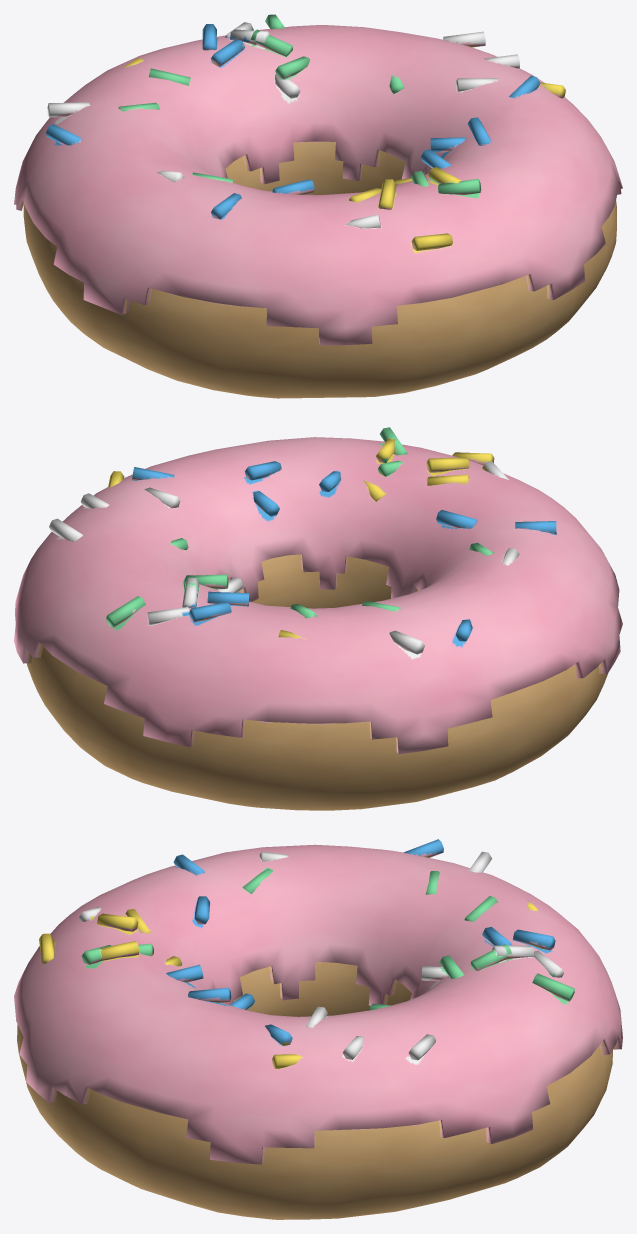
Rendered from Snack_Donut.fbx.
The picture shows the model from 3 angles, top to bottom: view 1: azimuth 30°, elevation 25°; view 2: azimuth 150°, elevation 25°; view 3: azimuth 270°, elevation 25°; orthographic projection.
Parts seen in each view (by area): view 1: Snack_Donut; view 2: Snack_Donut; view 3: Snack_Donut.
Part boxes in pixels (x1,y1,x2,y2): Snack_Donut: (14, 14, 622, 398); Snack_Donut: (14, 427, 622, 810); Snack_Donut: (14, 839, 622, 1219).
Bounding box in the file's own units: 237 × 85.88 × 237.
